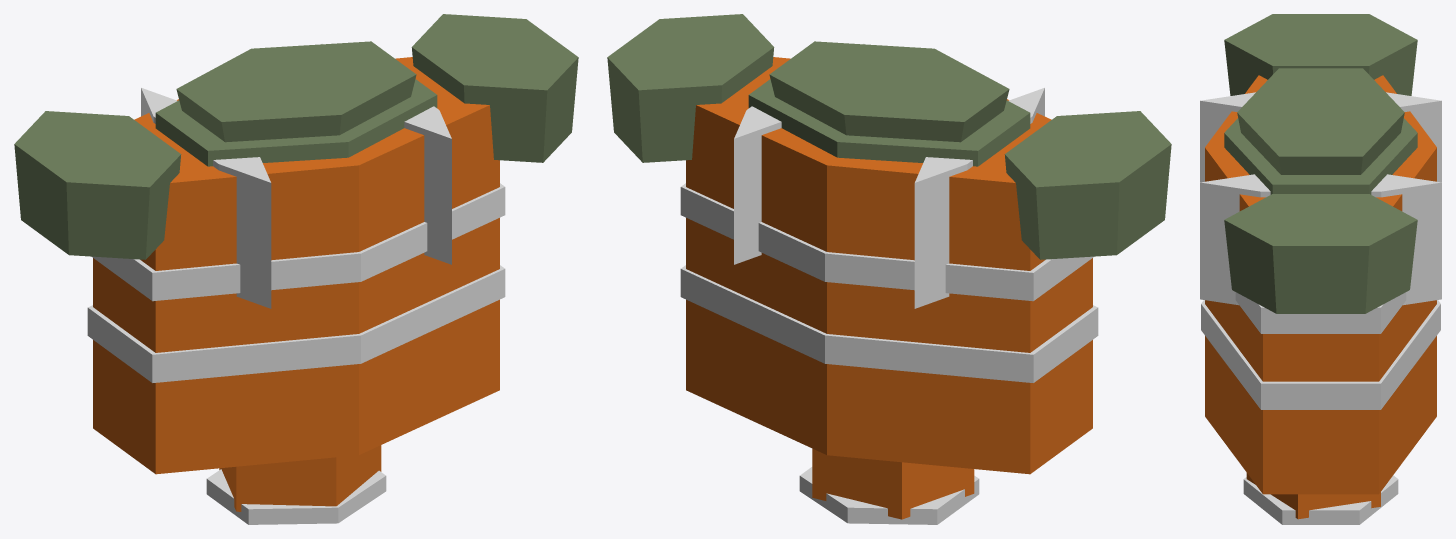
File: torso.work_jacket_hivis.glb
The picture shows the model from 3 angles, left to right: view 1: azimuth 30°, elevation 25°; view 2: azimuth 150°, elevation 25°; view 3: azimuth 270°, elevation 25°; orthographic projection. The views are drawn at different scales.
Visible parts, largest first — view 1: spine@work_jacket_hivis.team.accent, spine@work_jacket_hivis.team.cloth, spine@work_jacket_hivis.base, arm.L@work_jacket_hivis.team.accent, arm.L@work_jacket_hivis.base; view 2: spine@work_jacket_hivis.team.accent, spine@work_jacket_hivis.team.cloth, spine@work_jacket_hivis.base, arm.L@work_jacket_hivis.team.accent, arm.L@work_jacket_hivis.base; view 3: spine@work_jacket_hivis.team.cloth, spine@work_jacket_hivis.team.accent, spine@work_jacket_hivis.base, arm.L@work_jacket_hivis.base, arm.L@work_jacket_hivis.team.accent.
Boxes of the visible parts, <box> form: spine@work_jacket_hivis.team.accent: <box>93,57,499,474</box>; spine@work_jacket_hivis.team.cloth: <box>14,14,578,259</box>; spine@work_jacket_hivis.base: <box>87,43,505,382</box>; arm.L@work_jacket_hivis.team.accent: <box>219,445,381,511</box>; arm.L@work_jacket_hivis.base: <box>206,469,386,524</box>; spine@work_jacket_hivis.team.accent: <box>686,57,1092,474</box>; spine@work_jacket_hivis.team.cloth: <box>607,14,1171,259</box>; spine@work_jacket_hivis.base: <box>680,43,1098,382</box>; arm.L@work_jacket_hivis.team.accent: <box>812,448,974,519</box>; arm.L@work_jacket_hivis.base: <box>799,467,979,524</box>; spine@work_jacket_hivis.team.cloth: <box>1224,14,1417,313</box>; spine@work_jacket_hivis.team.accent: <box>1205,75,1436,494</box>; spine@work_jacket_hivis.base: <box>1200,92,1441,409</box>; arm.L@work_jacket_hivis.base: <box>1243,475,1398,524</box>; arm.L@work_jacket_hivis.team.accent: <box>1246,473,1380,519</box>.
Size of the model in its own units: 0.8505 by 0.6525 by 0.375.
